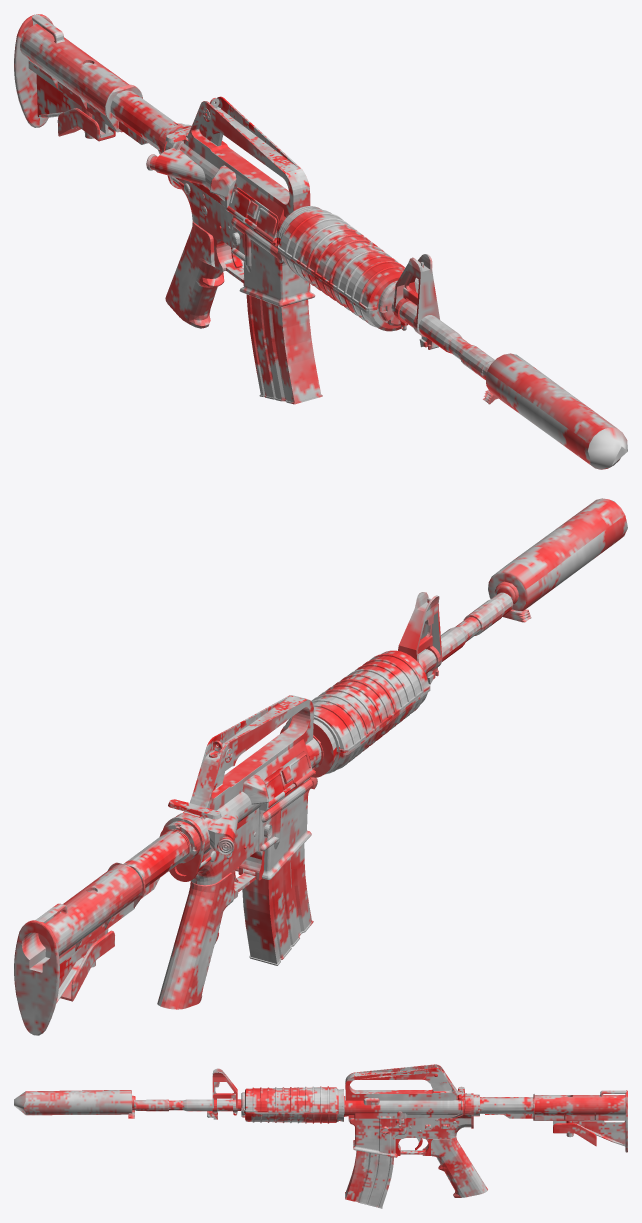
3 renders of one model, top to bottom at view 1: azimuth 30°, elevation 25°; view 2: azimuth 150°, elevation 25°; view 3: azimuth 270°, elevation 25°, orthographic. The views are drawn at different scales.
Visible parts, largest first — view 1: weapon002, silencer001; view 2: weapon002, silencer001; view 3: weapon002, silencer001.
Part boxes in pixels (x1,y1,x2,y2): weapon002: (14, 14, 494, 404); silencer001: (483, 353, 627, 469); weapon002: (14, 592, 514, 1035); silencer001: (488, 498, 627, 622); weapon002: (132, 1064, 627, 1208); silencer001: (14, 1090, 135, 1118).
Size of the model in its own units: 3.58 by 11.71 by 47.45.
1 material, 1 textured.
